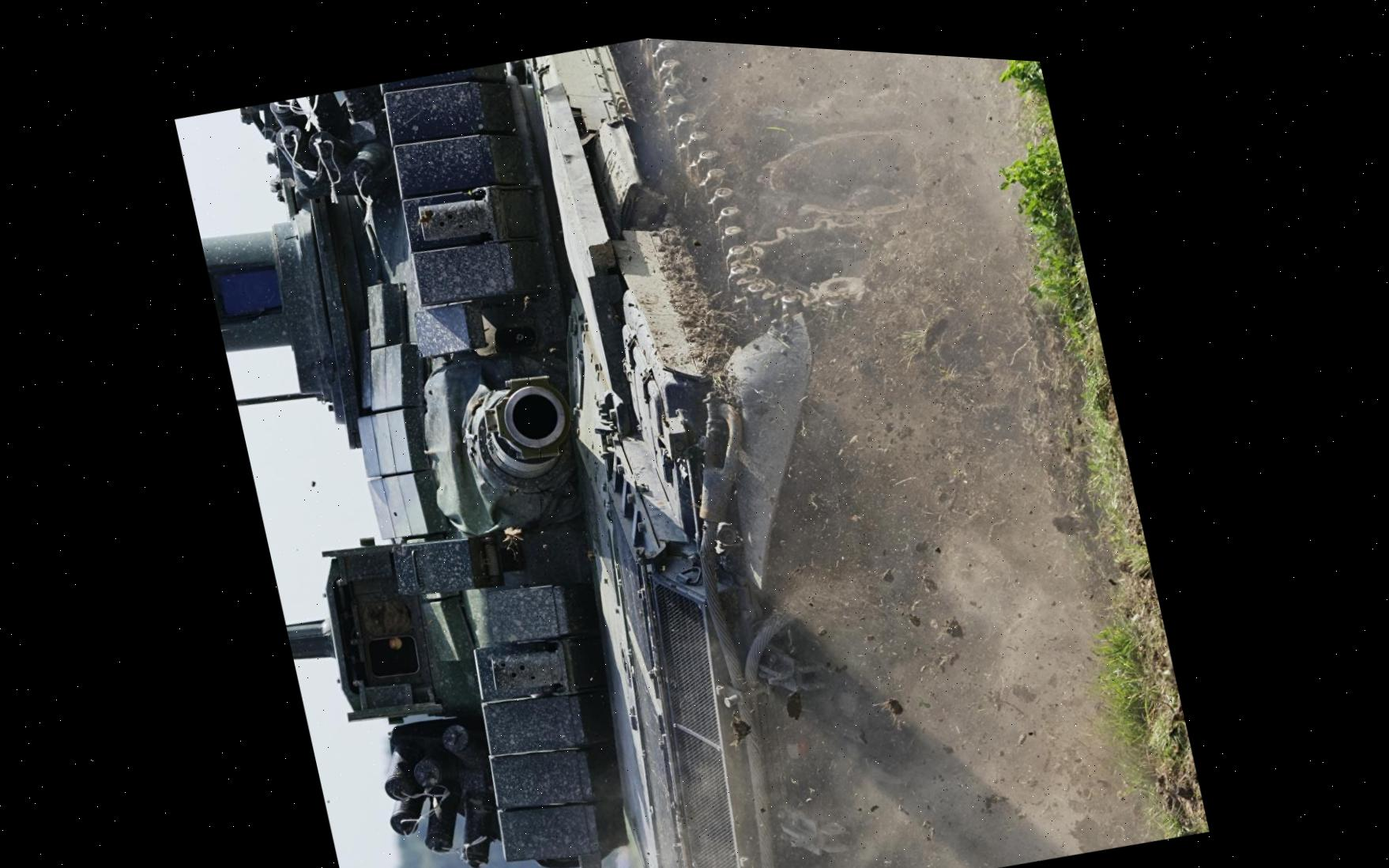tank: (167, 10, 1150, 868)
